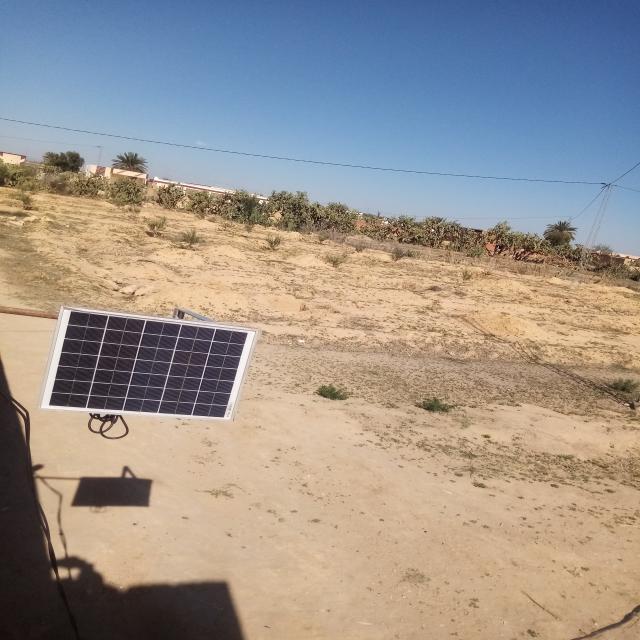Normal Solar Panel: (38, 307, 258, 421)
